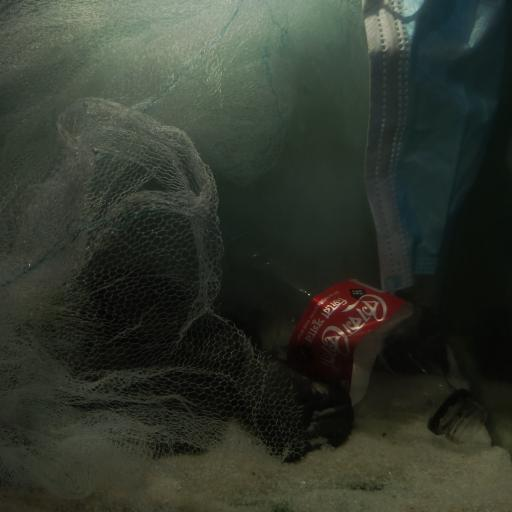mask: (360, 0, 512, 294)
net: (2, 0, 334, 512)
plastic_bottle: (226, 239, 486, 442)
